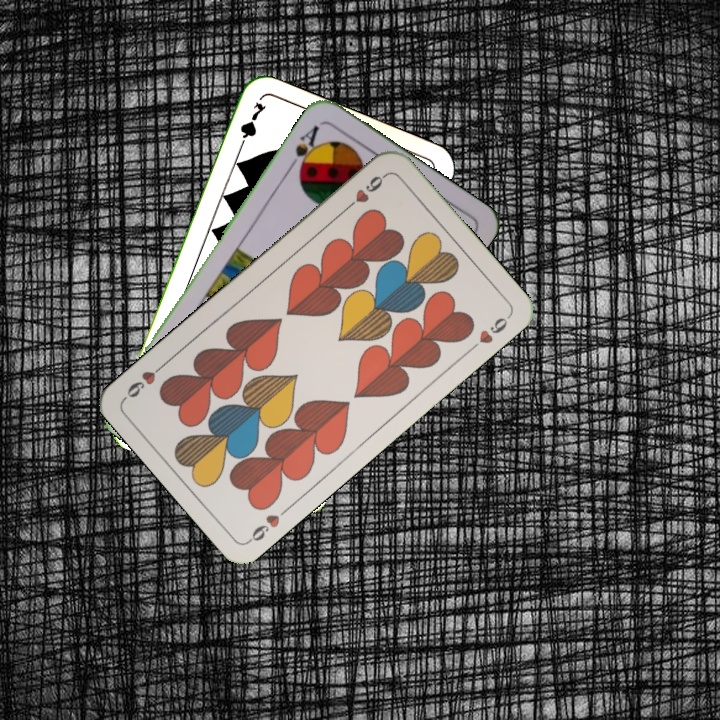G7: (234, 97, 269, 154)
H9: (341, 170, 390, 213), (244, 502, 293, 545)
SA: (284, 121, 323, 177)
